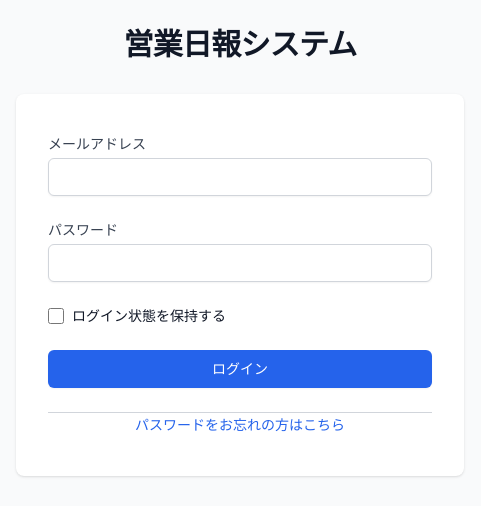
Test: LoginPage › 異常系: パスワード未入力でバリデーションエラーが表示される
Type "yamada@example.com" into the field labelled "メールアドレス" at [240, 177], box [48,158,432,196]
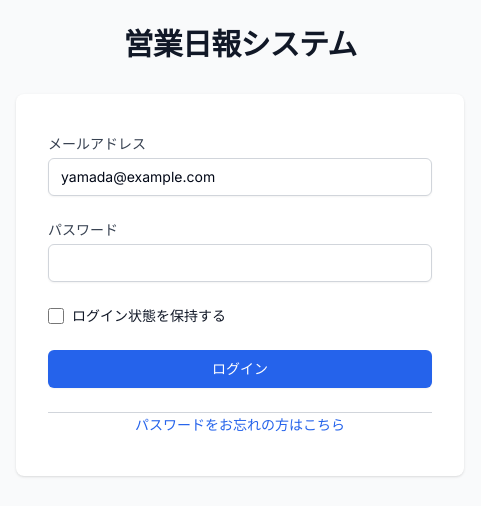
Click the button "ログイン" at [240, 369], box [48,350,432,388]
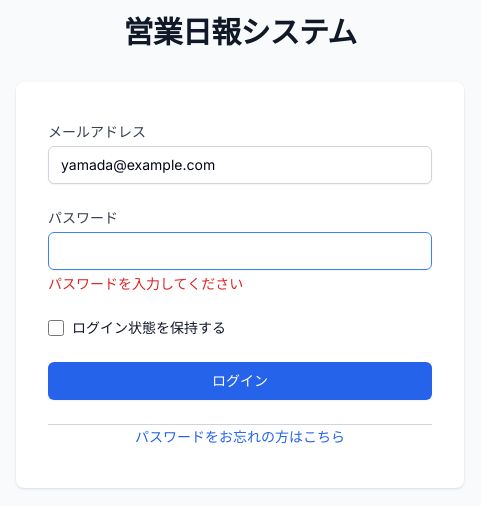
Expected: the text "パスワードを入力してください" is shown, [48,275,243,292]
